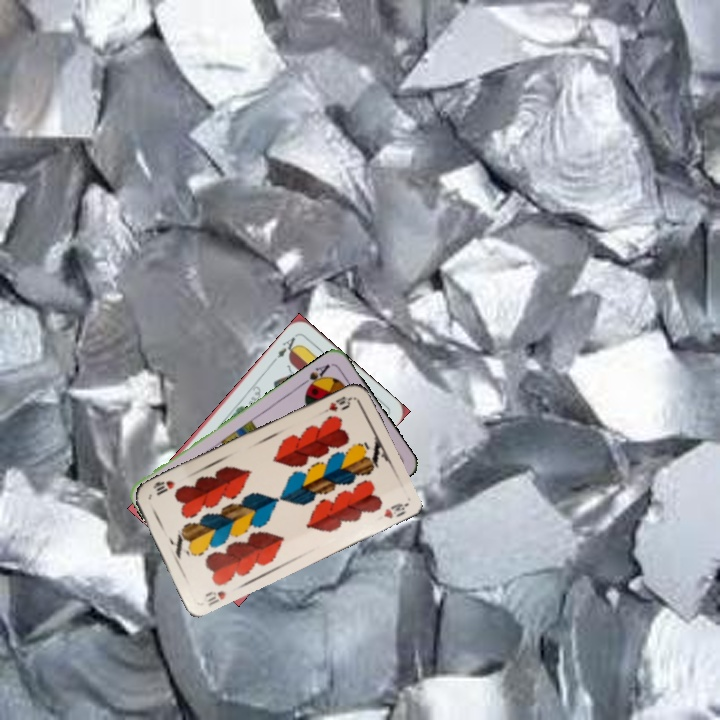EA: (269, 331, 301, 365)
H10: (317, 392, 355, 417), (201, 586, 228, 608)
SA: (298, 360, 333, 393)
